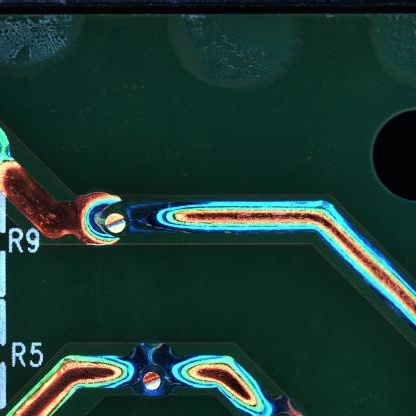spot: (72, 193, 130, 246), (131, 341, 179, 400)
